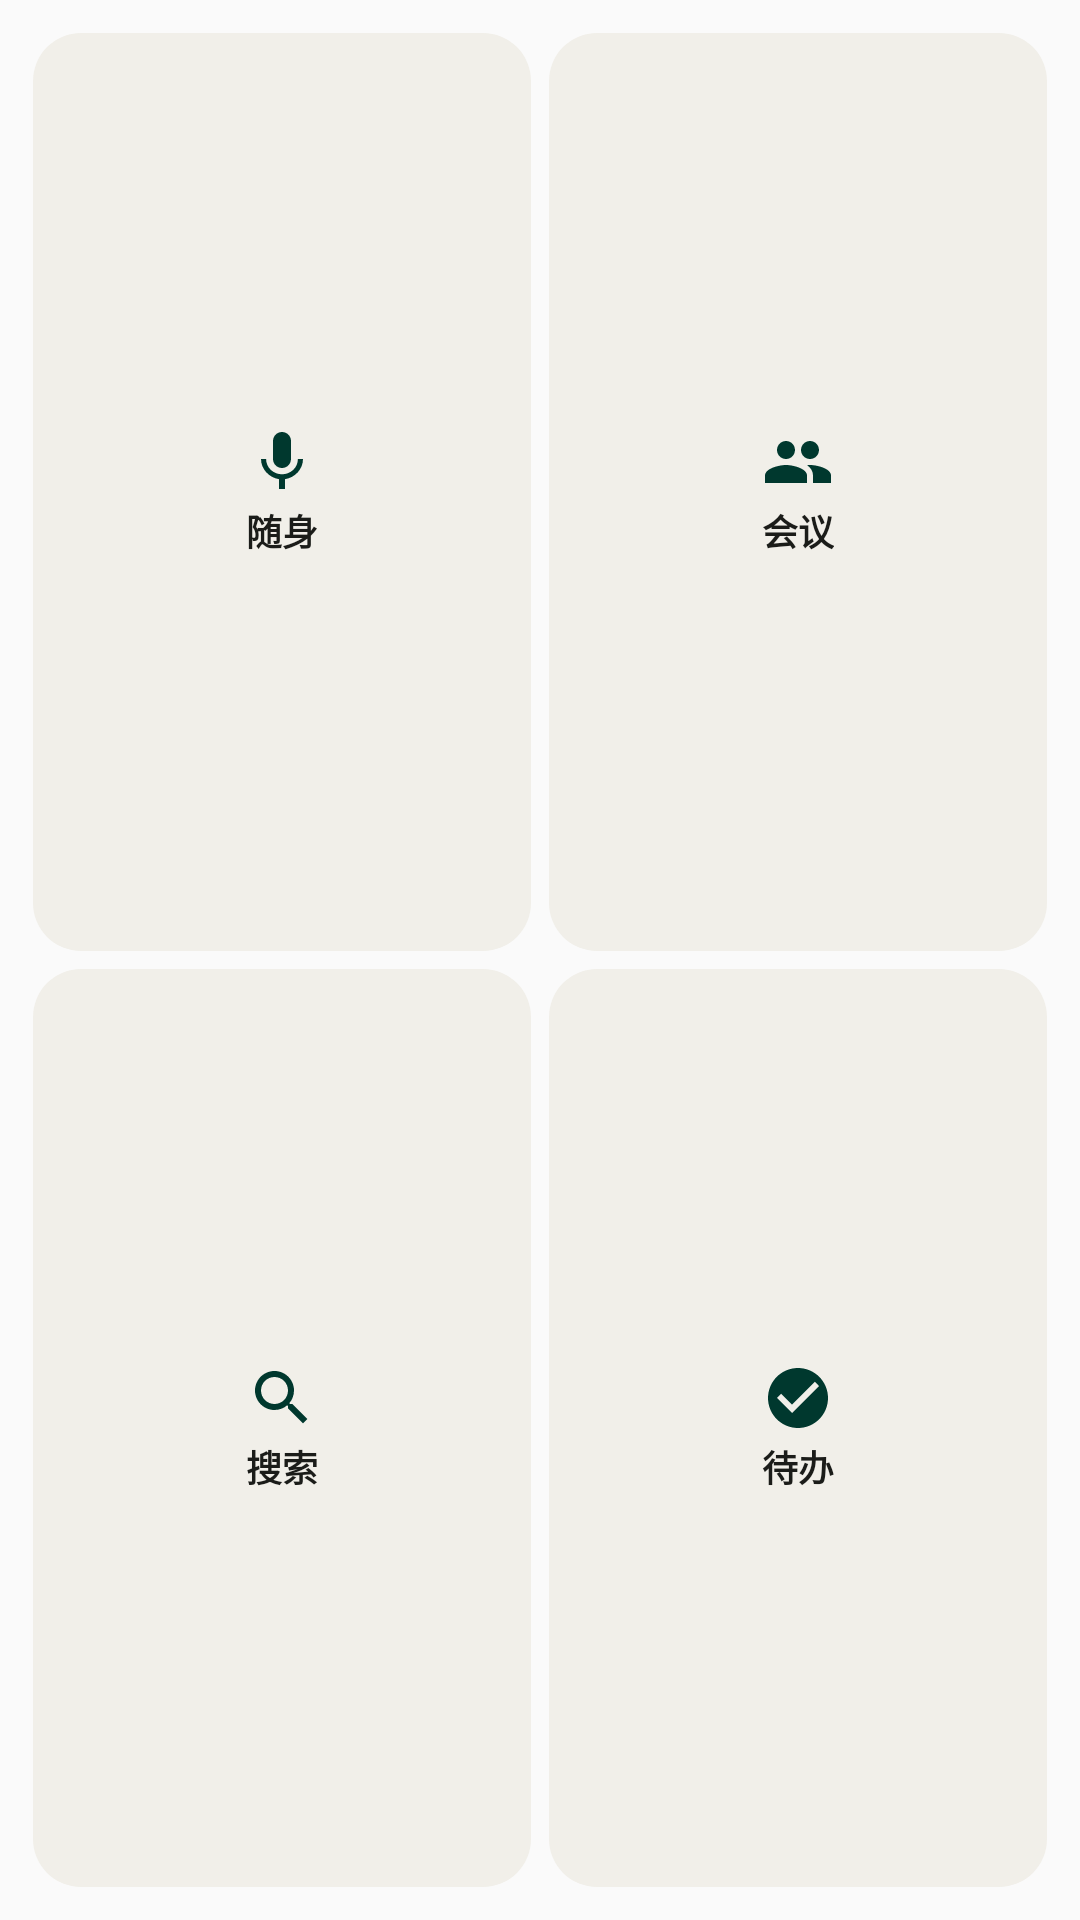

Screen size 1080×1920. Icon name, then its center in pixels as (x,y):
check: (798,1398)
mic: (282,460)
people: (798,462)
